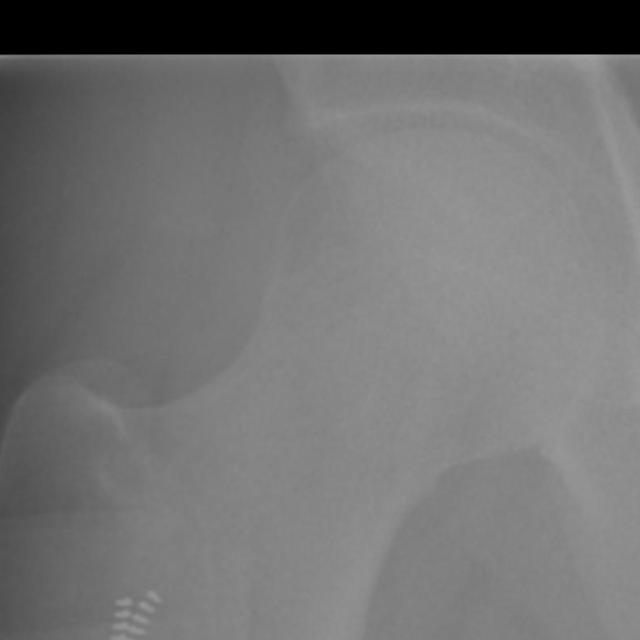Fitted_femural_head: (345, 127, 432, 345)
